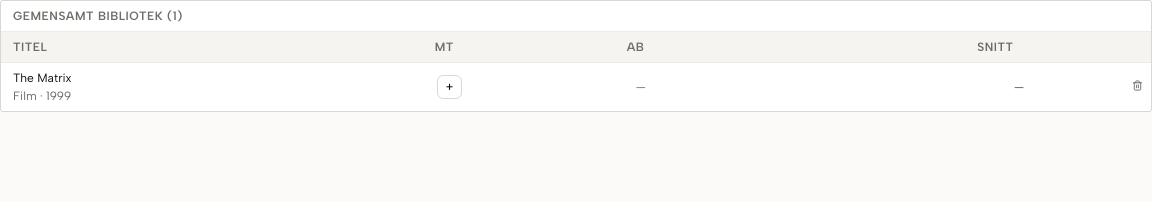
Test: GroupWatchlistTable — a refused write (BIN-1308) › a refused rating shows the failure and reports it under its own kind
This screenshot has width=1152, height=202.
Click the button "+" at (450, 87), box [437,75,462,99]
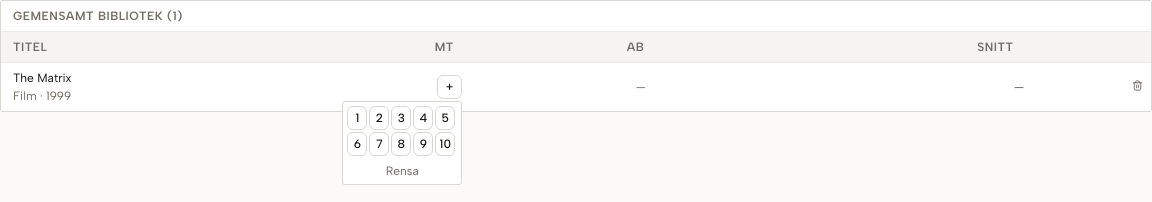
Click the button "7" at (379, 144), box [369,132,389,156]
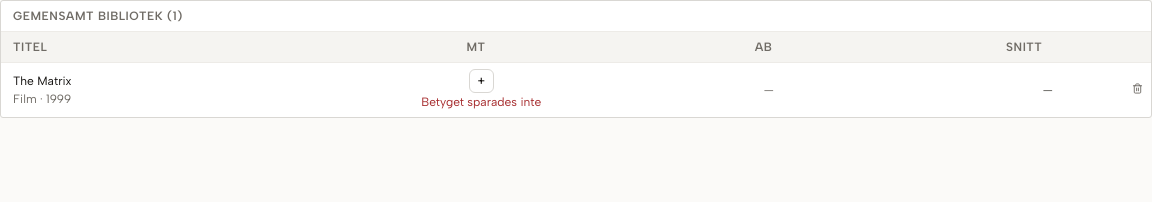
Expected: the message reads "Betyget sparades inte", [421,95,541,109]
